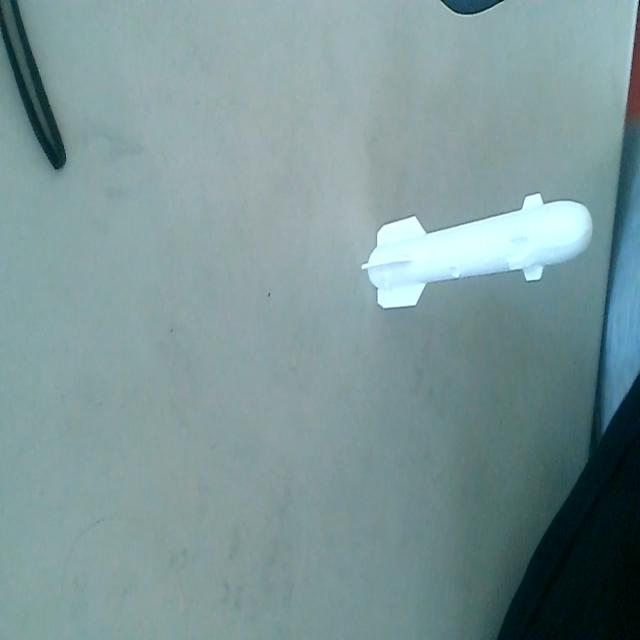Rocket: (360, 180, 596, 320)
